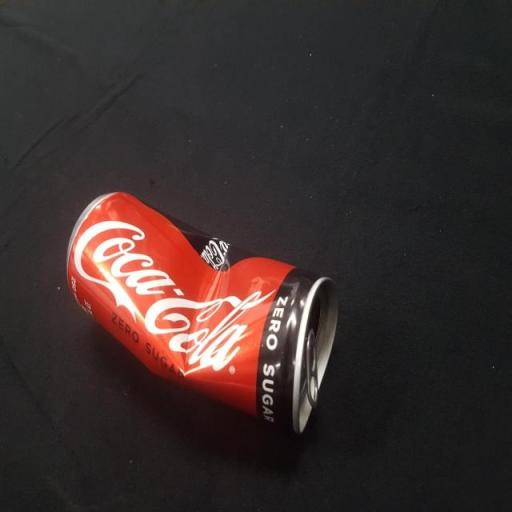metal: (56, 178, 351, 446)
